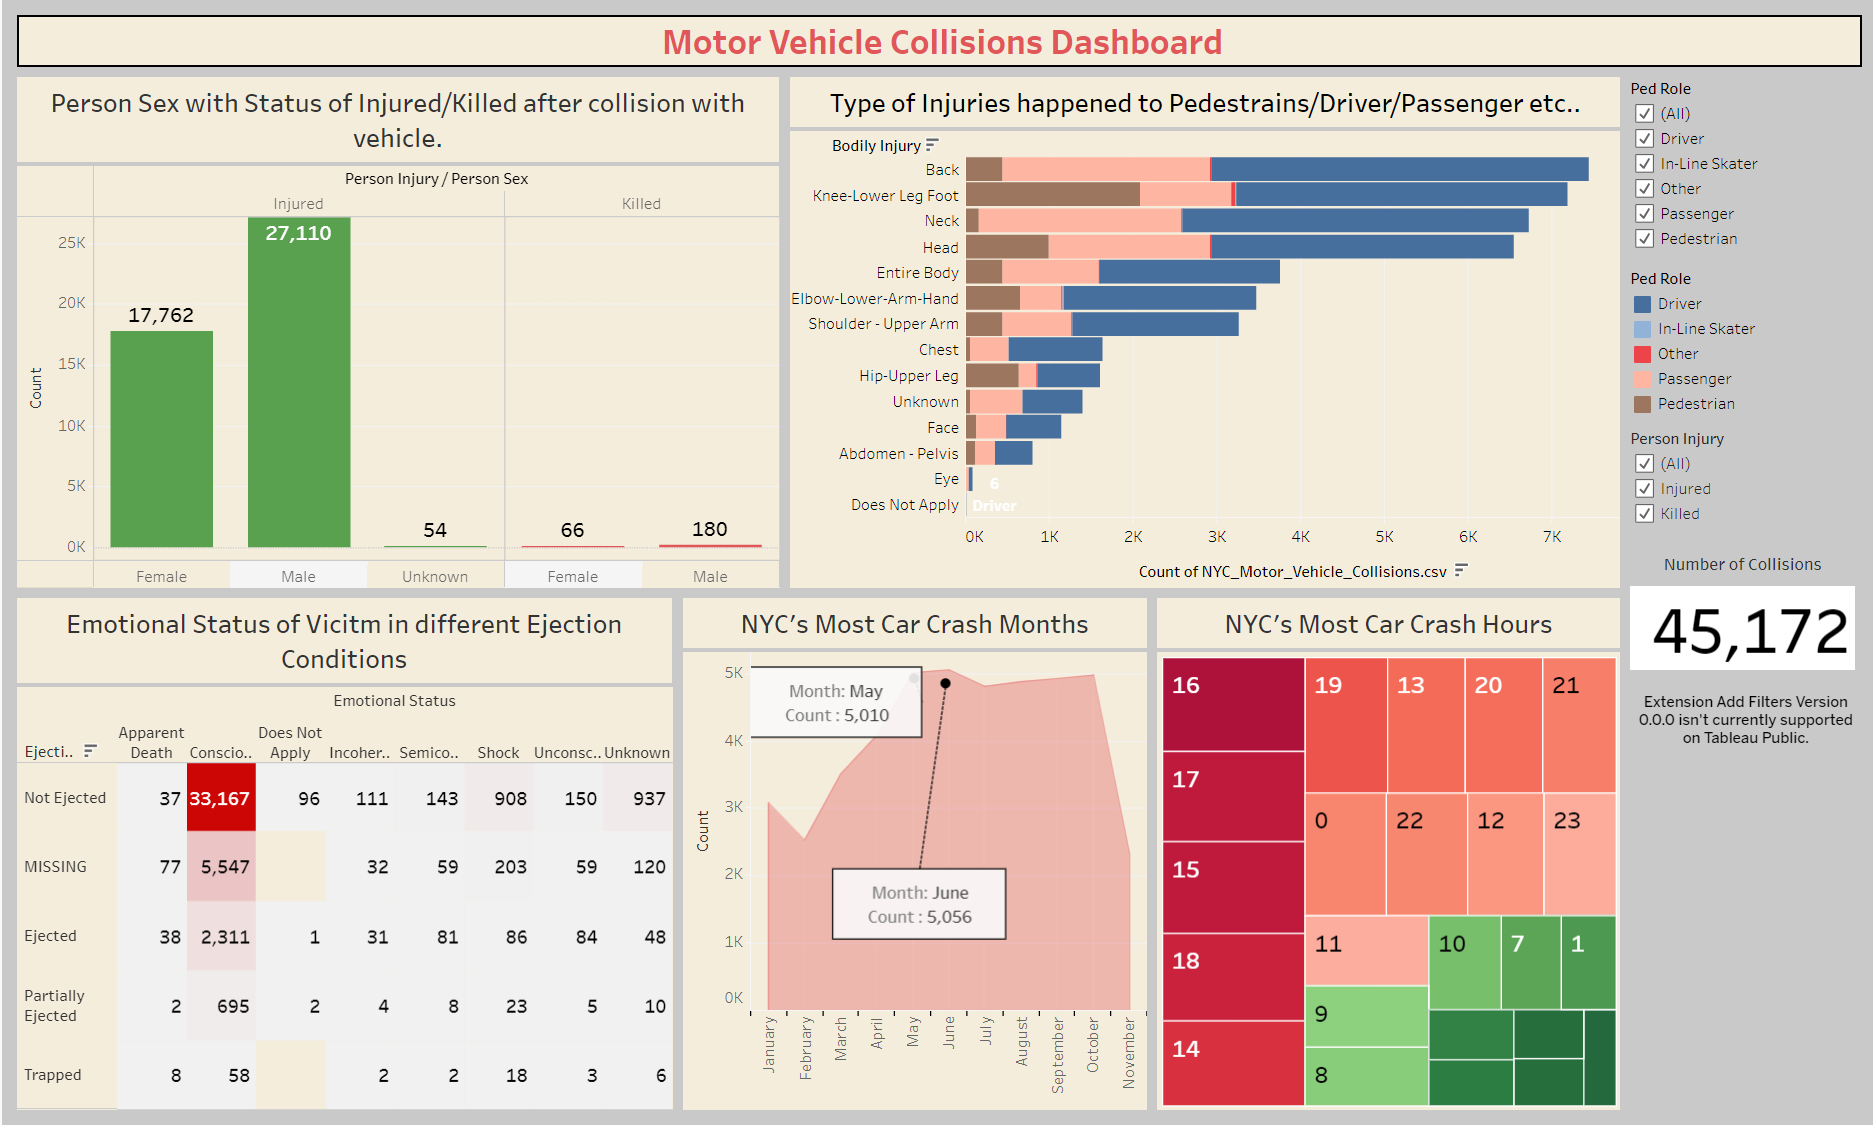

This screenshot's page, from the dashboard's own definition file:
{"tool":"tableau","page":{"name":"Dashboard 1","canvas":[1500,900],"ordinal":0},"visuals":[{"type":"title","box":[8,8,1484,50]},{"type":"worksheet","title":"Injured/Killed - Sex","mark":"Automatic","rows":["NYC_Motor_Vehicle_Collisions.csv_FEE0FF6CFA764B09A84CEC5C24F"],"cols":["PERSON_INJURY","PERSON_SEX"],"box":[8,58,619,417]},{"type":"worksheet","title":"Injury - Peds","mark":"Automatic","rows":["BODILY_INJURY"],"cols":["NYC_Motor_Vehicle_Collisions.csv_FEE0FF6CFA764B09A84CEC5C24F"],"box":[627,58,672,417]},{"type":"filter","title":"Injury - Peds","param":"[federated.13fi8yx0ja3zox13bk0sj0fvqah9].[none:PED_ROLE:nk]","box":[1299,58,193,146]},{"type":"legend","title":"Injury - Peds","param":"[federated.13fi8yx0ja3zox13bk0sj0fvqah9].[none:PED_ROLE:nk]","box":[1299,204,193,126]},{"type":"filter","title":"Injured/Killed - Sex","param":"[federated.13fi8yx0ja3zox13bk0sj0fvqah9].[none:PERSON_INJURY:nk]","box":[1299,330,193,89]},{"type":"worksheet","title":"Number of Collisions","mark":"Automatic","box":[1299,419,193,120]},{"type":"worksheet","title":"Ejection - Emotional Status","mark":"Square","rows":["EJECTION"],"cols":["EMOTIONAL_STATUS"],"box":[8,475,533,417]},{"type":"worksheet","title":"Collision - Month","mark":"Area","rows":["NYC_Motor_Vehicle_Collisions.csv_FEE0FF6CFA764B09A84CEC5C24F"],"cols":["CRASH_DATE"],"box":[541,475,379,417]},{"type":"worksheet","title":"Collision - Hours","mark":"Automatic","box":[920,475,379,417]},{"type":"dashboard-object","param":"[com.tableau.addfilters].[0.0.0].[https://extensions.tableauusercontent.com/sand","box":[1299,539,193,353]}]}

Visuals, with their boxes in screenshot pixels (x1, y1, x2, y2), scaled from the page's 1500x900 canvas onto the 1873x1125 screenshot:
title: 10,10,1863,72
"Injured/Killed - Sex" worksheet: 10,72,783,594
"Injury - Peds" worksheet: 783,72,1622,594
"Injury - Peds" filter: 1622,72,1863,255
"Injury - Peds" legend: 1622,255,1863,412
"Injured/Killed - Sex" filter: 1622,412,1863,524
"Number of Collisions" worksheet: 1622,524,1863,674
"Ejection - Emotional Status" worksheet (Square marks): 10,594,676,1115
"Collision - Month" worksheet (Area marks): 676,594,1149,1115
"Collision - Hours" worksheet: 1149,594,1622,1115
dashboard-object: 1622,674,1863,1115
